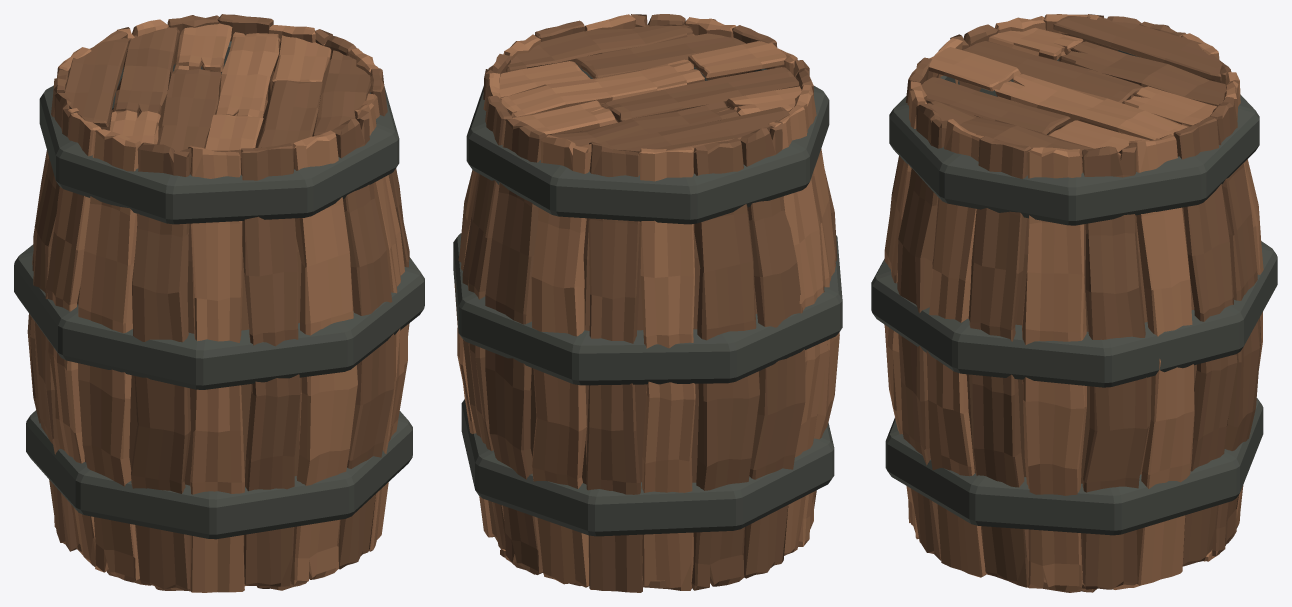
File: Barril.fbx
3 renders of one model, left to right at view 1: azimuth 30°, elevation 25°; view 2: azimuth 150°, elevation 25°; view 3: azimuth 270°, elevation 25°, orthographic.
Visible parts, largest first — view 1: LP Barrel; view 2: LP Barrel; view 3: LP Barrel.
Boxes of the visible parts, left/top/right/bottom form: LP Barrel: left=14, top=14, right=424, bottom=592; LP Barrel: left=453, top=14, right=842, bottom=592; LP Barrel: left=871, top=14, right=1277, bottom=592.
Bounding box in the file's own units: 227 × 275 × 227.
